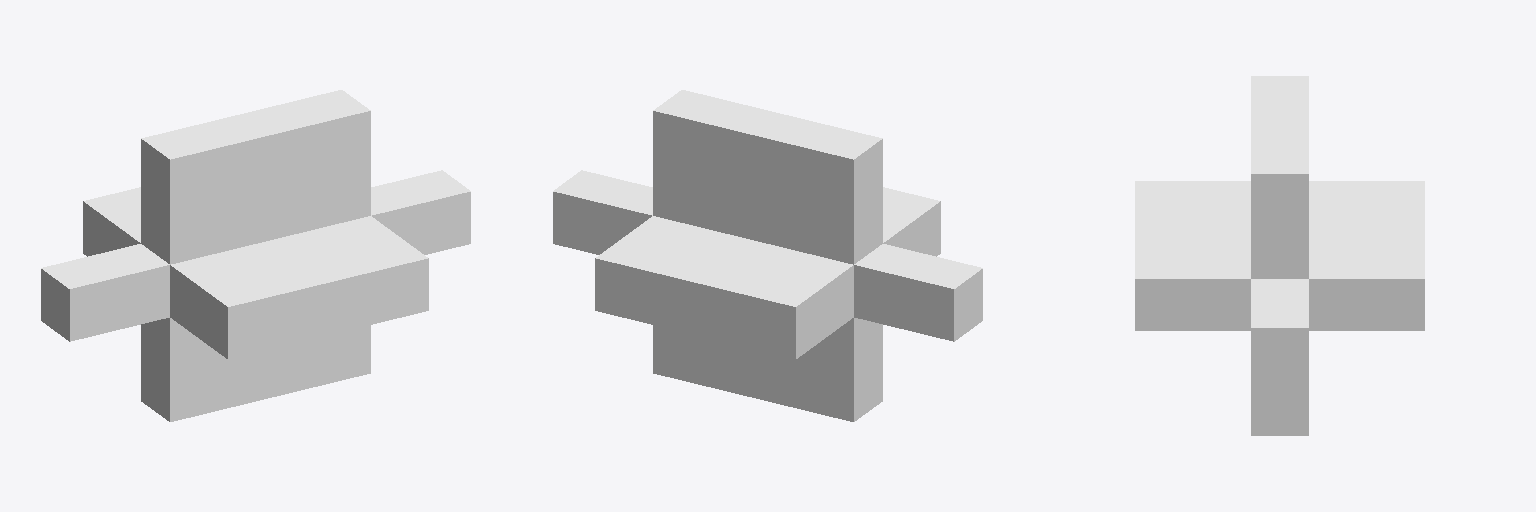
File: powerwheel.obj
The picture shows the model from 3 angles: view 1: azimuth 30°, elevation 25°; view 2: azimuth 150°, elevation 25°; view 3: azimuth 270°, elevation 25°; orthographic projection.
Parts seen in each view (by area): view 1: object 1; view 2: object 1; view 3: object 1.
Part boxes in pixels (x1,y1,x2,y2): object 1: (41, 90, 470, 421); object 1: (553, 90, 982, 421); object 1: (1135, 76, 1424, 435).
Size of the model in its own units: 0.8 by 0.5 by 0.5.